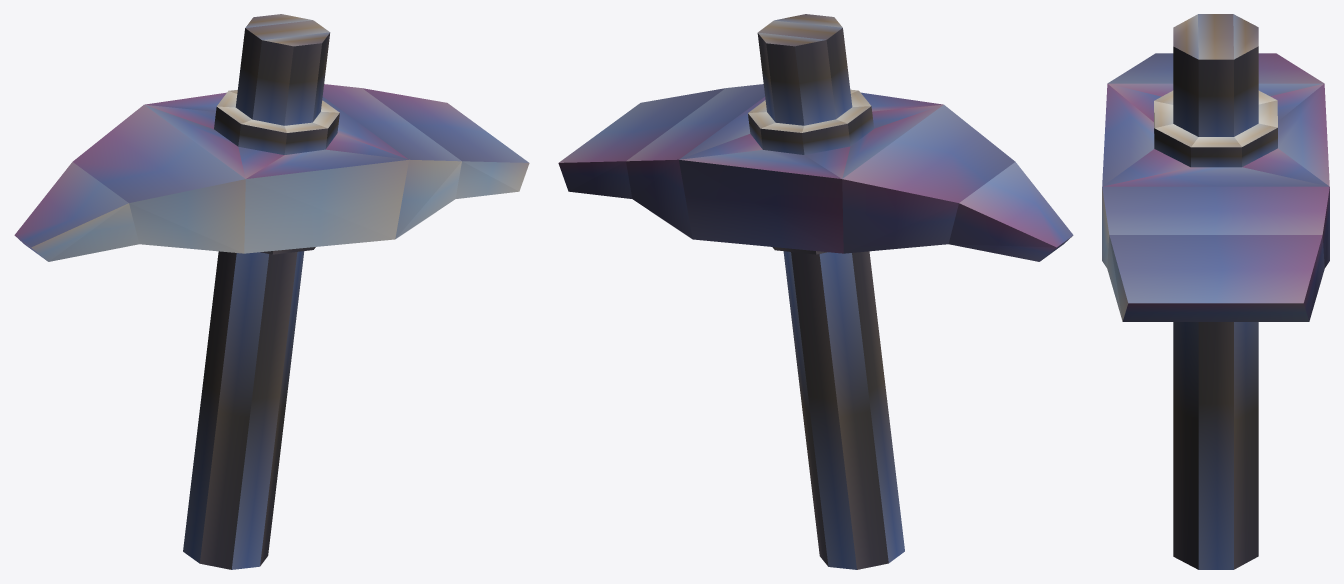
The model's file is pickaxe01.fbx.
The picture shows the model from 3 angles, left to right: view 1: azimuth 30°, elevation 25°; view 2: azimuth 150°, elevation 25°; view 3: azimuth 270°, elevation 25°; orthographic projection. The views are drawn at different scales.
Parts seen in each view (by area): view 1: pickaxe01; view 2: pickaxe01; view 3: pickaxe01.
Boxes of the visible parts, x1,y1,x2,y2 form: pickaxe01: (14,14,529,569); pickaxe01: (558,14,1073,569); pickaxe01: (1102,14,1329,569).
Size of the model in its own units: 105 by 111 by 41.59.
